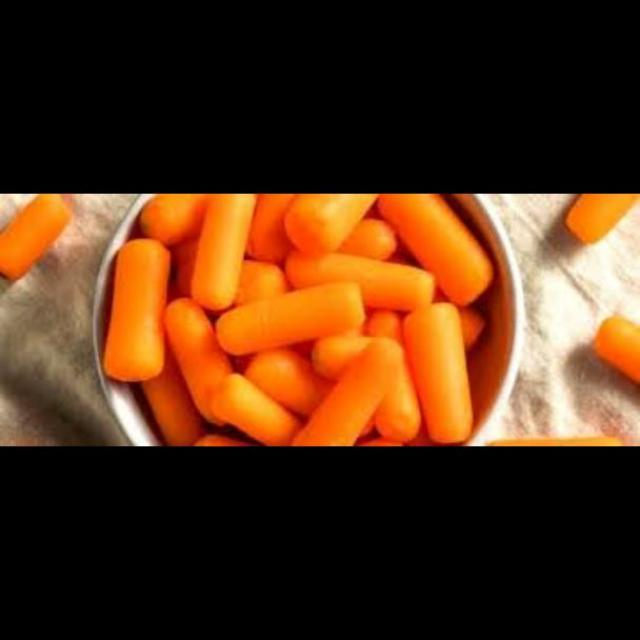Carrot: (122, 192, 465, 446), (0, 192, 74, 286), (584, 300, 640, 394), (555, 192, 632, 254), (486, 430, 634, 444)
